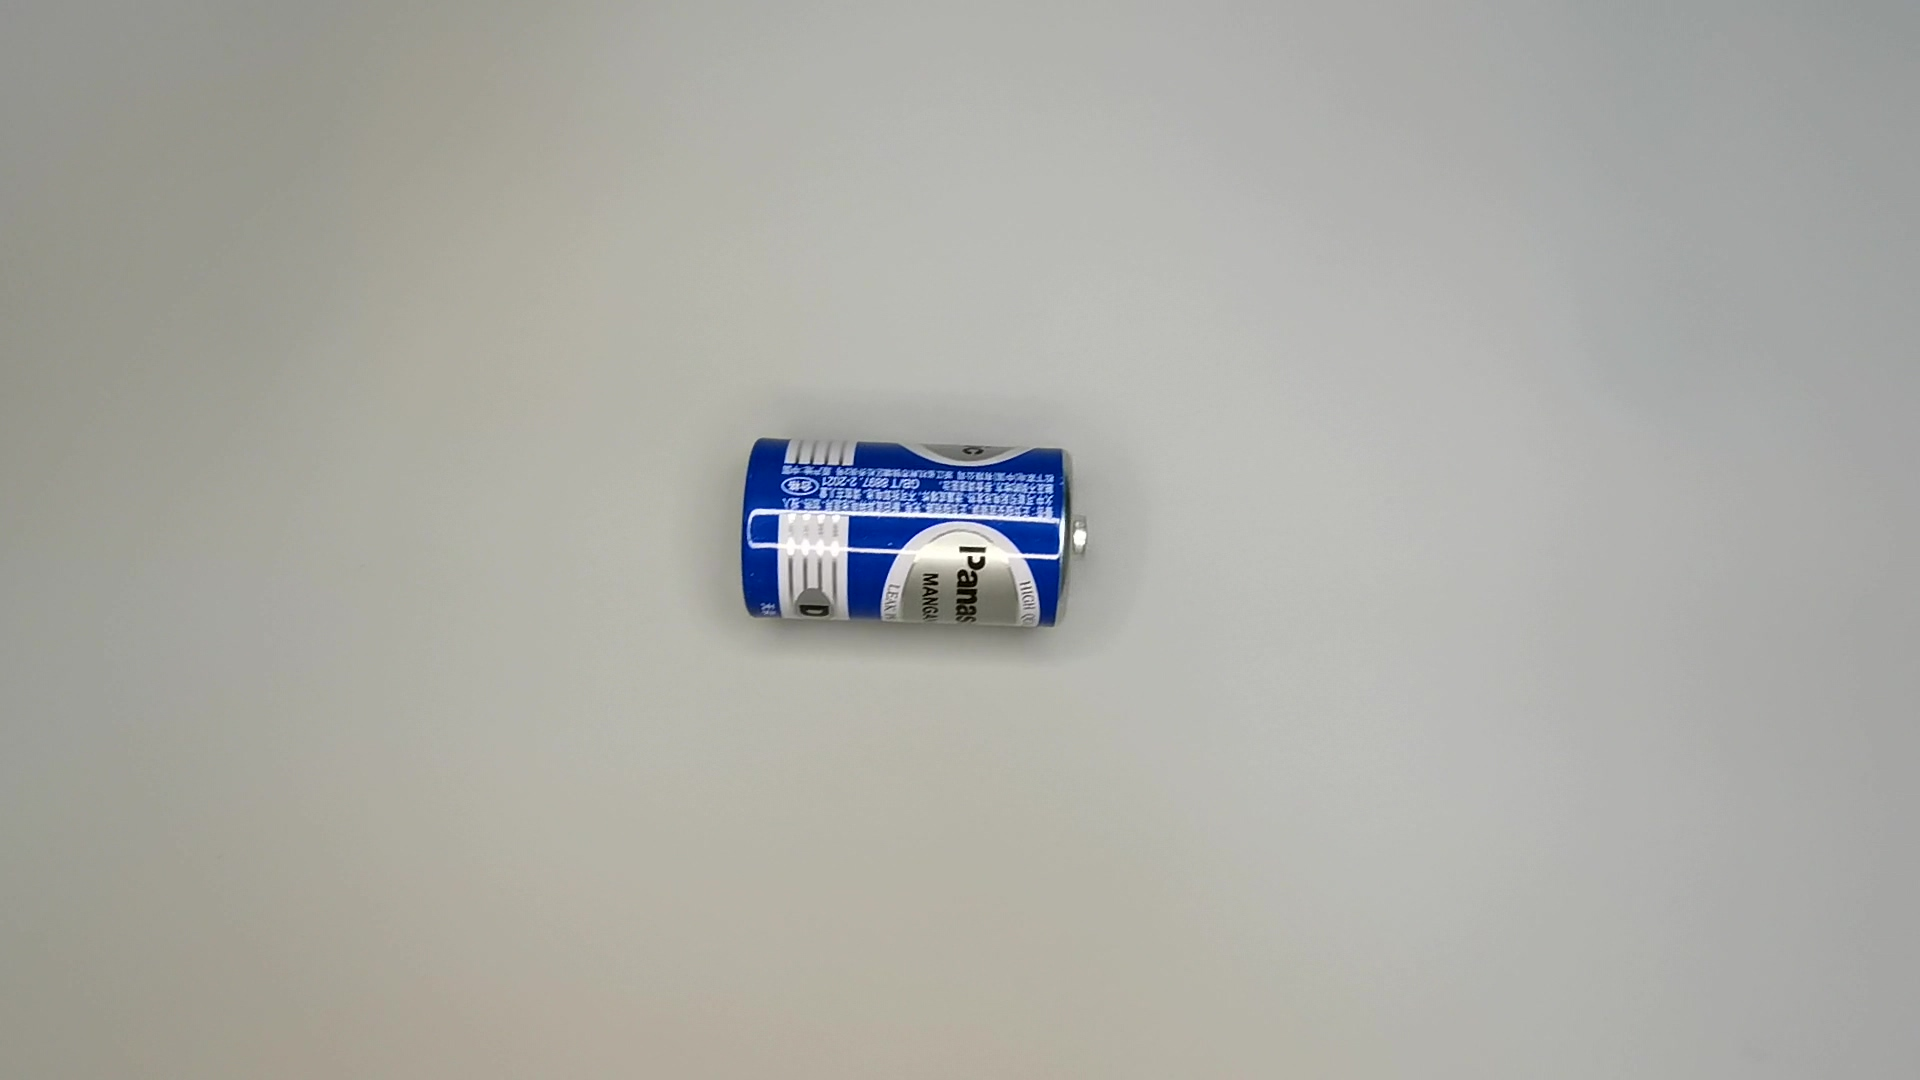battery: (736, 426, 1101, 642)
